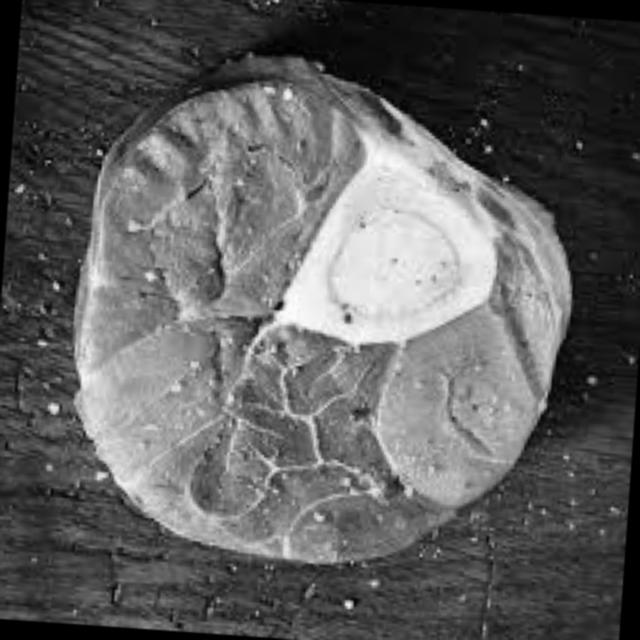chan gio: (63, 44, 595, 584)
